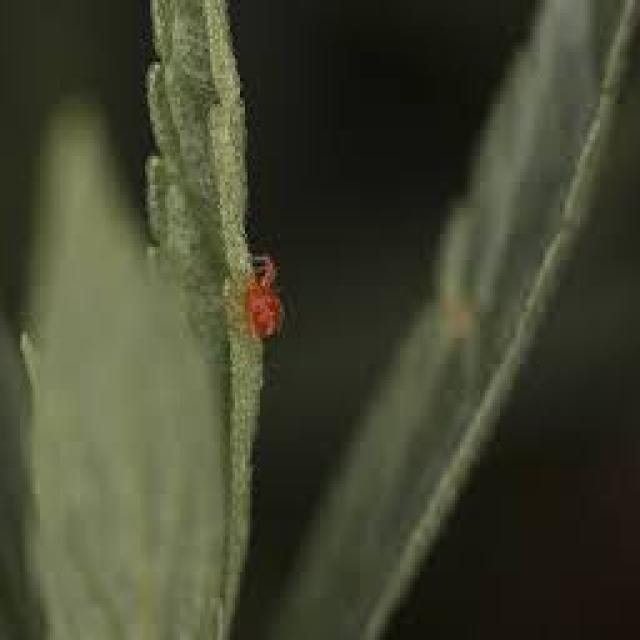Mites: (221, 245, 294, 349)
